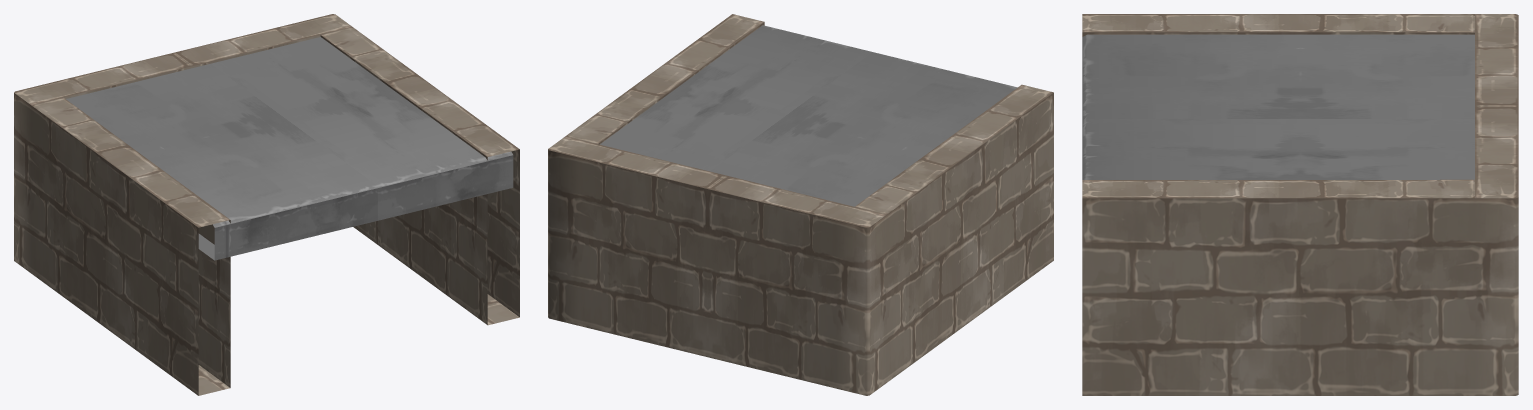
Rendered from Stairs_Exterior_PlatformU.gltf.
3 renders of one model, left to right at view 1: azimuth 30°, elevation 25°; view 2: azimuth 150°, elevation 25°; view 3: azimuth 270°, elevation 25°, orthographic. The views are drawn at different scales.
Visible parts, largest first — view 1: Stairs_Exterior_PlatformU; view 2: Stairs_Exterior_PlatformU; view 3: Stairs_Exterior_PlatformU.
Part boxes in pixels (box(x1,y1,x2,y2)): Stairs_Exterior_PlatformU: box(14, 14, 519, 395); Stairs_Exterior_PlatformU: box(548, 14, 1053, 395); Stairs_Exterior_PlatformU: box(1082, 14, 1518, 395).
Size of the model in its own units: 2 by 1 by 2.
Materials: 2 (2 with a texture image).
